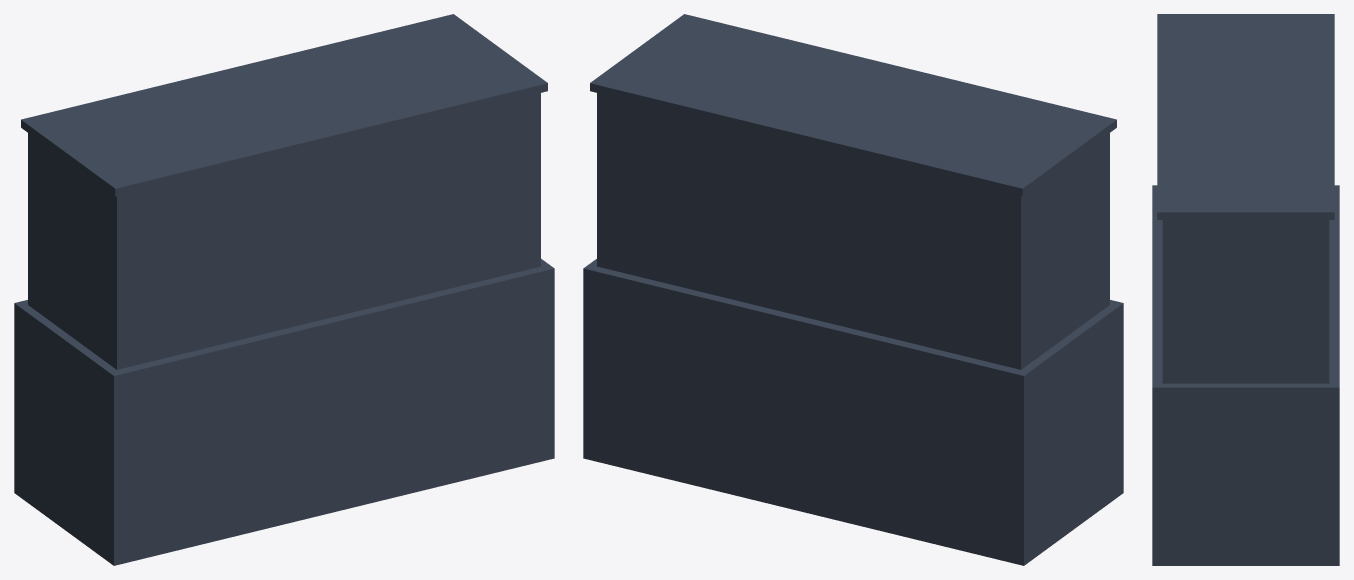
The model's file is fishingpool_prototype.fbx.
3 views of the same model, side by side, from view 1: azimuth 30°, elevation 25°; view 2: azimuth 150°, elevation 25°; view 3: azimuth 270°, elevation 25° (orthographic). The views are drawn at different scales.
Parts seen in each view (by area): view 1: fishing_pool; view 2: fishing_pool; view 3: fishing_pool.
Boxes of the visible parts, bbox=[...] form: fishing_pool: bbox=[14, 14, 554, 565]; fishing_pool: bbox=[583, 14, 1123, 565]; fishing_pool: bbox=[1152, 14, 1339, 565].
Size of the model in its own units: 1.79 by 1.45 by 0.7002.
